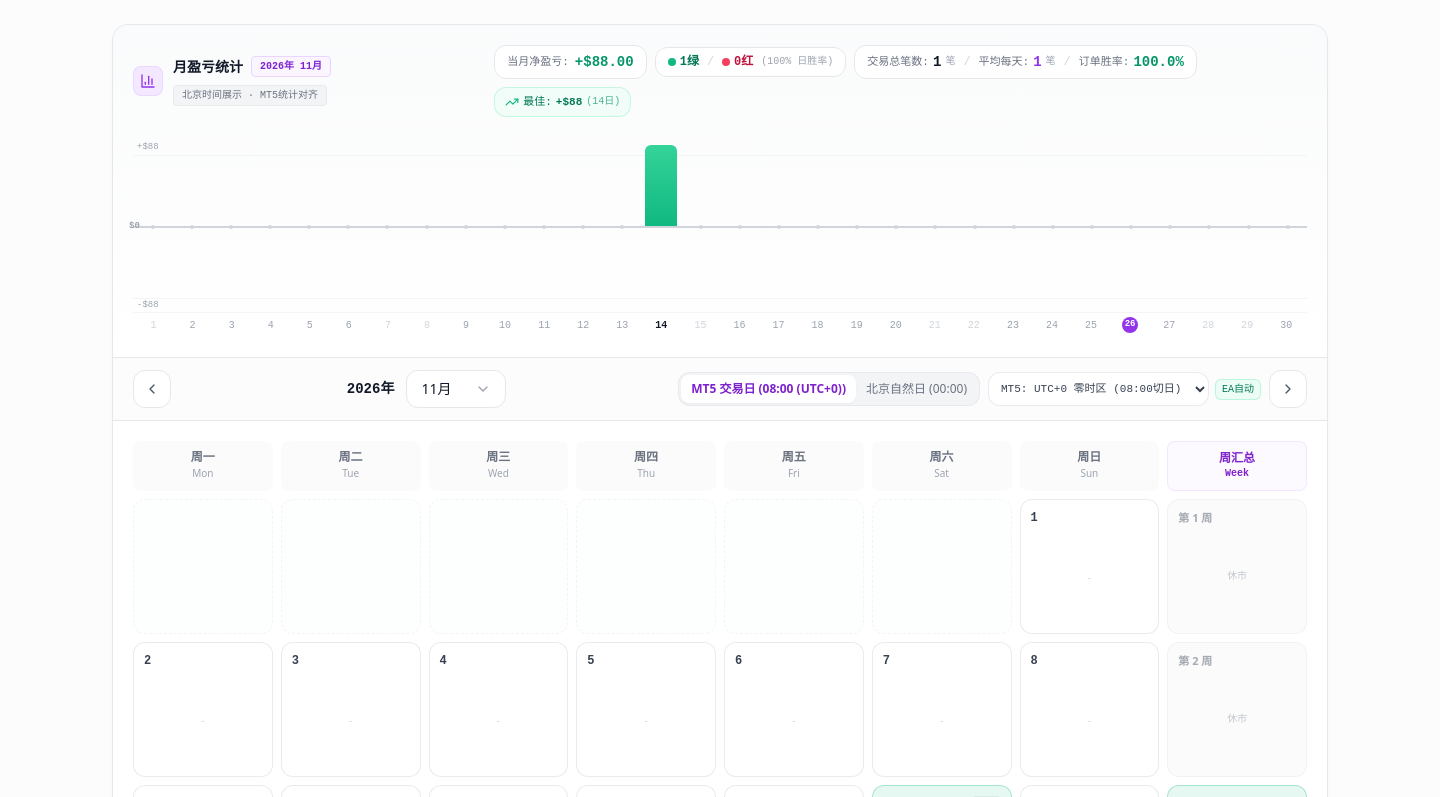
Test: StatsPage (Trading Calendar) › auto-applies EA-detected broker timezone badge and allows manual override & reset
This screenshot has width=1440, height=797.
Expected: the text "EA自动" is shown, [1215,378,1261,400]
Expected: the button "MT5 交易日 (08:00 (UTC+0))" is shown, [681,375,856,403]
Step 1. Select "MT5: UTC+3 固定 (05:00切日)" in the dropdown named "券商服务器时区" → (1098, 389), box [988,372,1209,406]
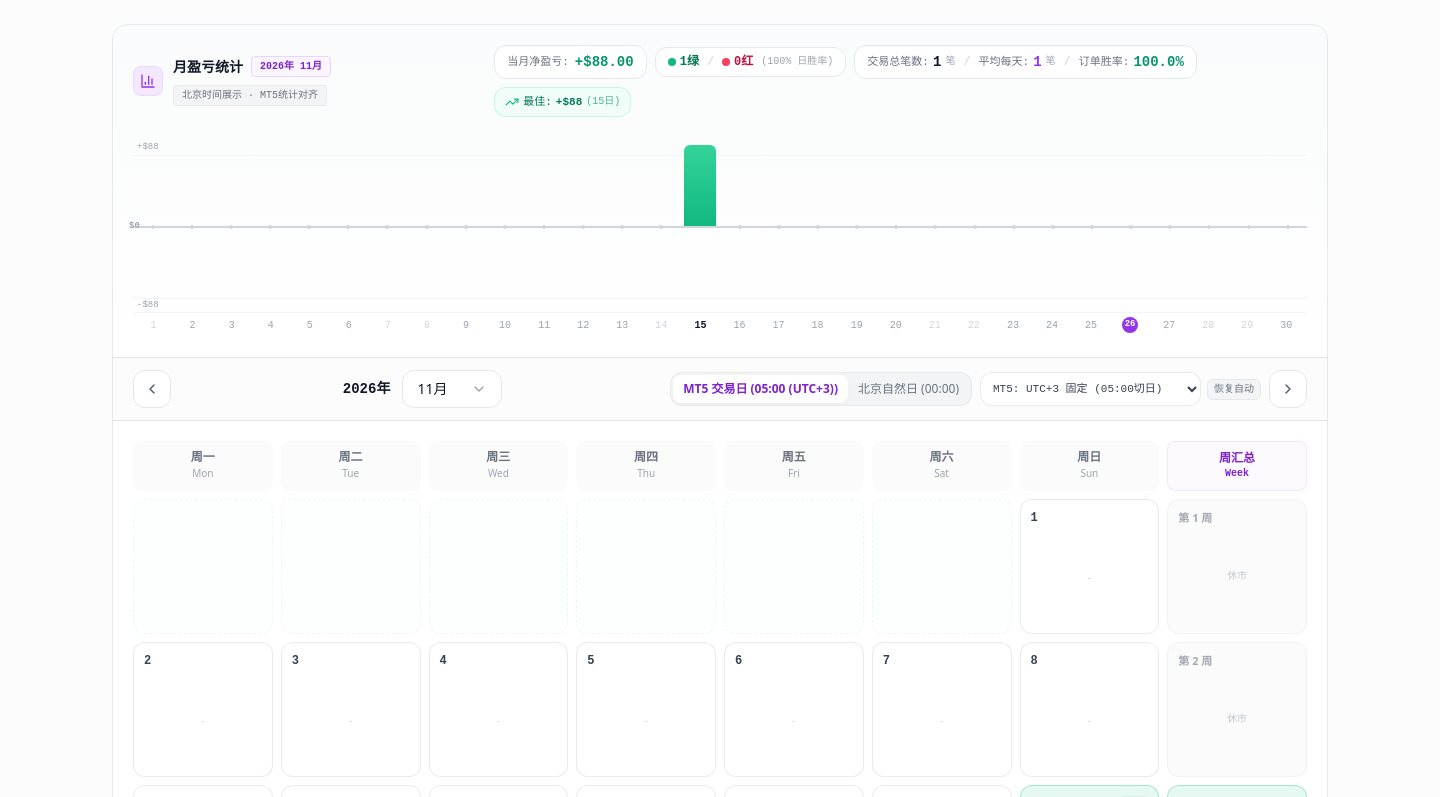
Now the button "恢复自动" is shown
Step 2. Click the button "恢复自动" → (1234, 389), box [1207,378,1261,400]
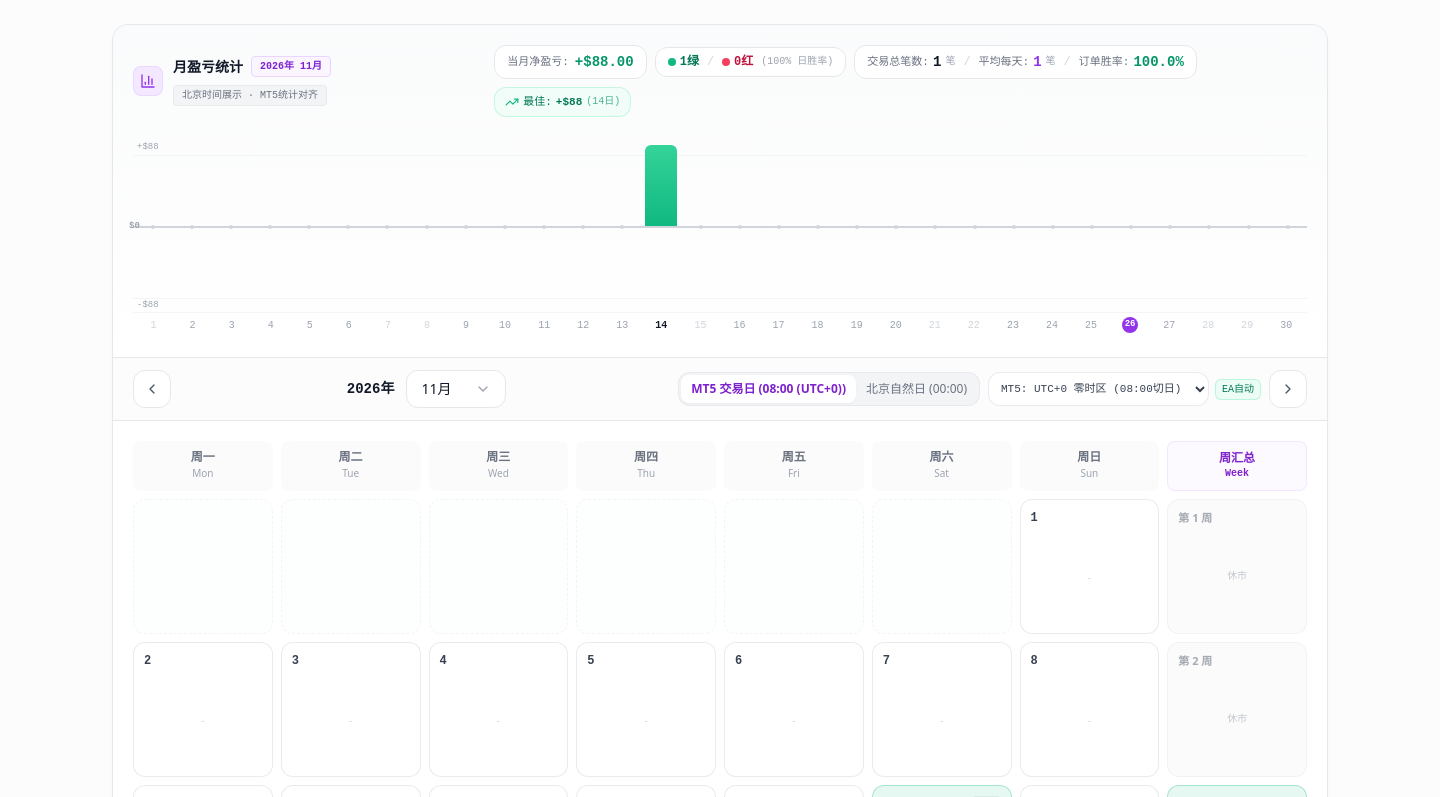
Now the text "EA自动" is shown, box [1215,378,1261,400]
